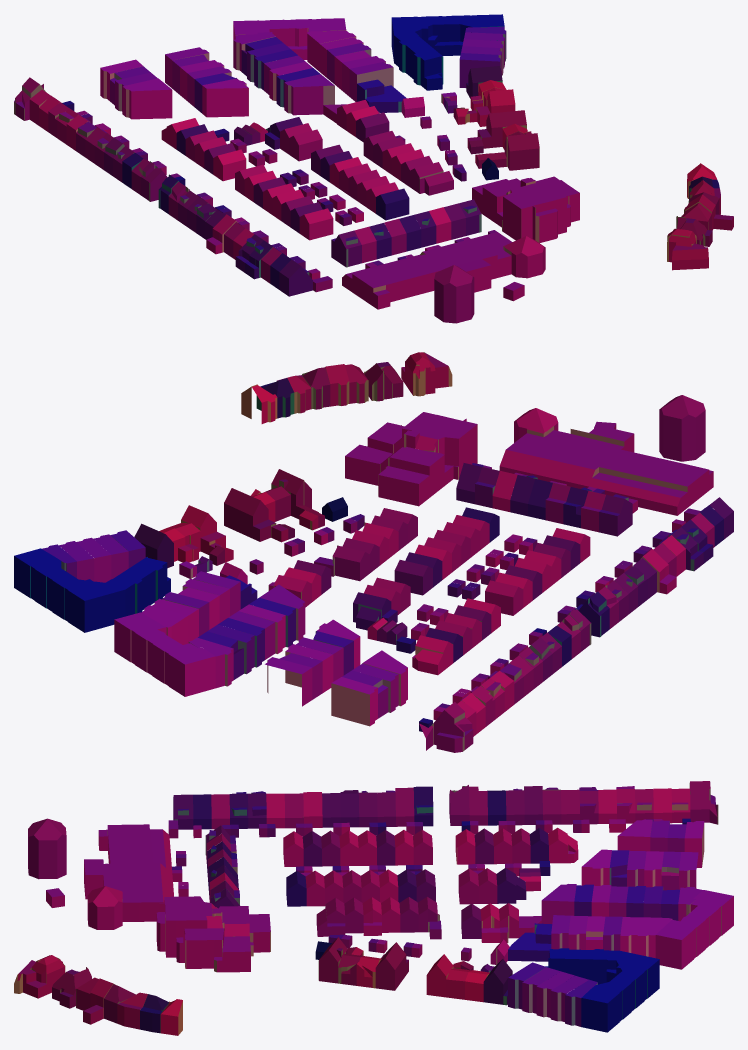
File: buildings_11_8.glb
The picture shows the model from 3 angles, top to bottom: view 1: azimuth 30°, elevation 25°; view 2: azimuth 150°, elevation 25°; view 3: azimuth 270°, elevation 25°; orthographic projection. The views are drawn at different scales.
Parts seen in each view (by area): view 1: buildings_11_8; view 2: buildings_11_8; view 3: buildings_11_8.
Part boxes in pixels (<box>): buildings_11_8: <box>14,14,733,323</box>; buildings_11_8: <box>14,352,733,752</box>; buildings_11_8: <box>14,781,733,1035</box>.
Size of the model in its own units: 159 by 17 by 212.
